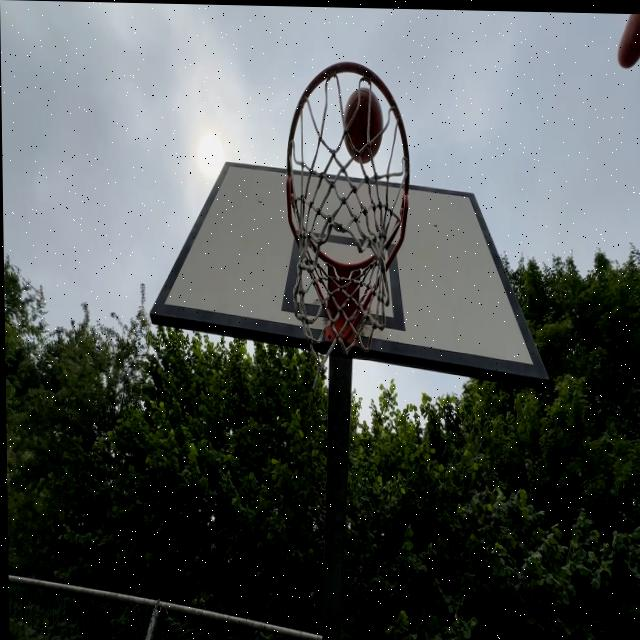Basketball: (343, 90, 386, 164)
